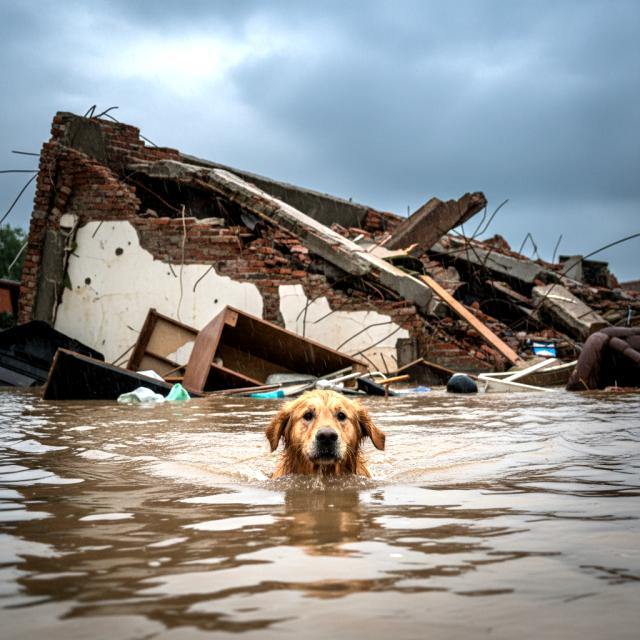dog: (247, 376, 400, 505)
